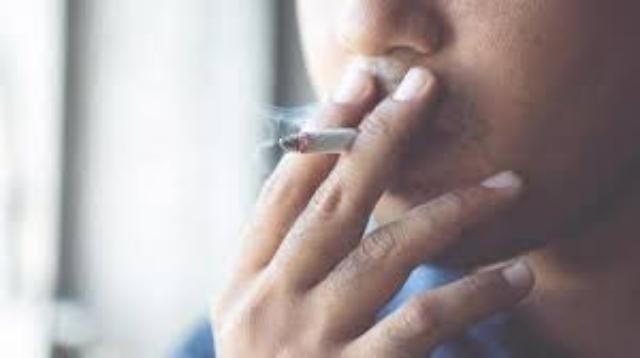Cigarette: (278, 129, 404, 155)
